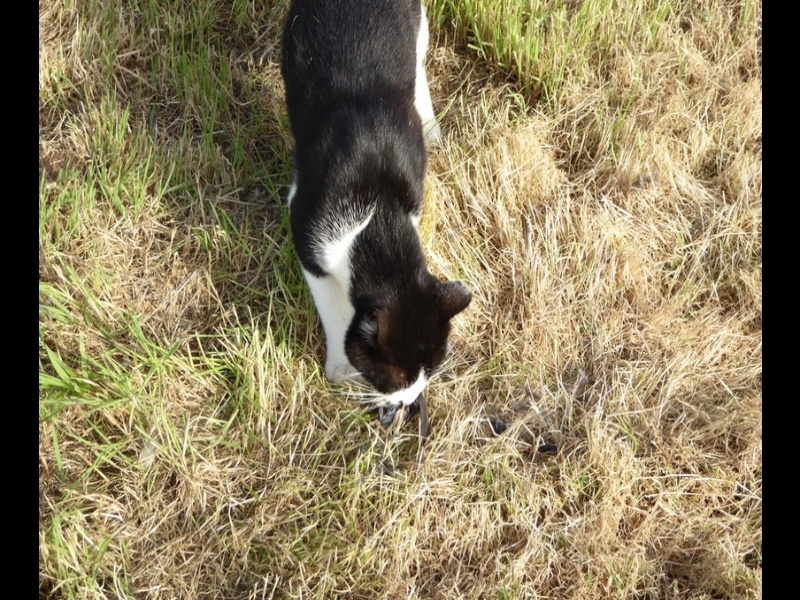cat: (269, 4, 478, 426)
